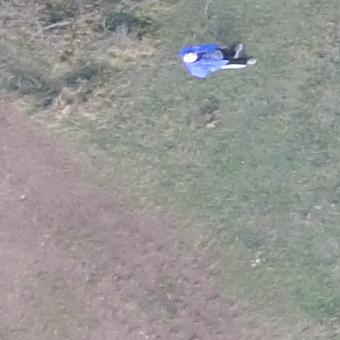human: (181, 38, 256, 81)
